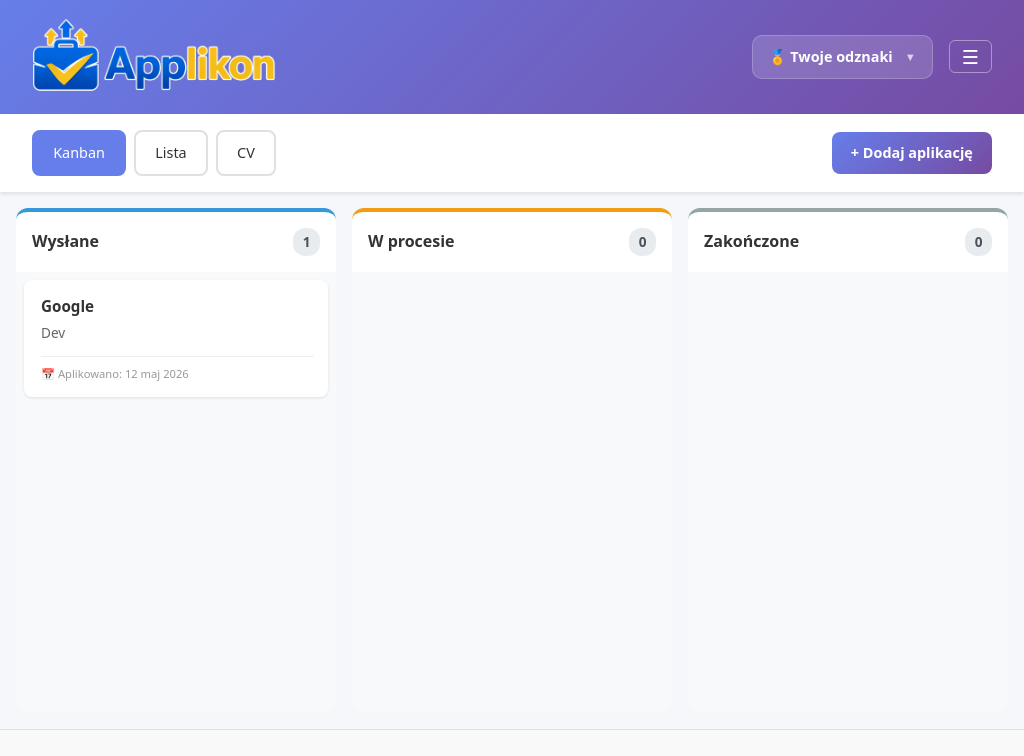
Test: App Component › View Switching › switches to list view
Click the button "Lista".
click(171, 153)  # box left=134, top=130, right=208, bottom=176
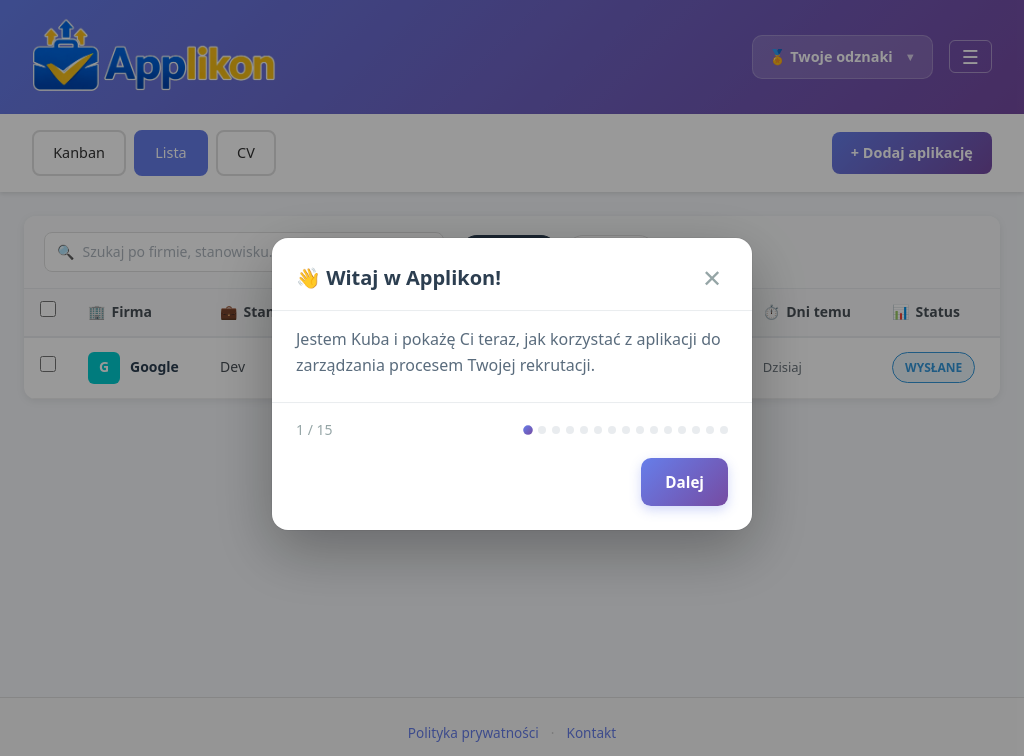
expect the table is shown: met, box left=24, top=289, right=1000, bottom=399
